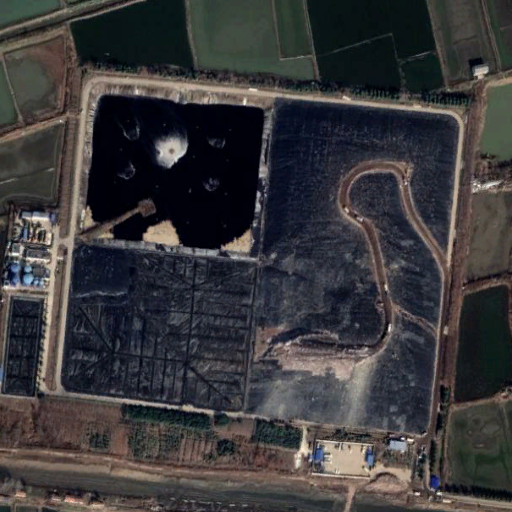lf: (45, 56, 470, 442)
